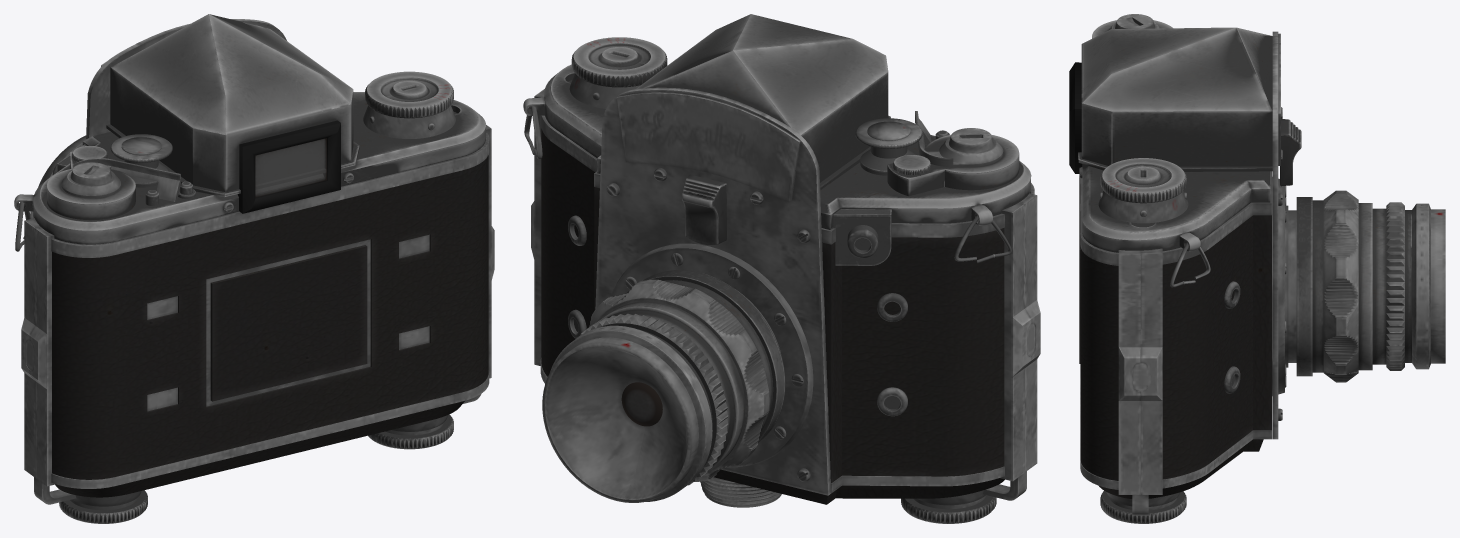
Rendered from tank.glb.
3 renders of one model, left to right at view 1: azimuth 30°, elevation 25°; view 2: azimuth 150°, elevation 25°; view 3: azimuth 270°, elevation 25°, orthographic. The views are drawn at different scales.
Visible parts, largest first — view 1: Cube.005_31, Cube.002_0, Cube.007_1, Cube.003_12, Cube_11, Cube.009_15, Box.002_32, Cube.004_13, Circle.005_3, Circle.022_21, Box.001_33, Cube.006_14 (+7 smaller); view 2: Cube.005_31, Cube.001_20, Circle.010_17, Cube.002_0, Cube.008_30, Cube.007_1, Circle.006_16, Cube.006_14, Circle.016_19, Circle.008_5, Circle.007_4, Circle.005_3 (+24 smaller); view 3: Cube.005_31, Cube.002_0, Cube.007_1, Circle.016_19, Circle.010_17, Cube_11, Cube.006_14, Circle.007_4, Circle.008_5, Circle.006_16, Circle.005_3, Circle.013_18 (+10 smaller).
Part boxes in pixels (x1=…): Cube.005_31: x1=52, y1=155, x2=488, y2=497; Cube.002_0: x1=106, y1=14, x2=359, y2=197; Cube.007_1: x1=33, y1=92, x2=485, y2=244; Cube.003_12: x1=30, y1=133, x2=489, y2=257; Cube_11: x1=29, y1=125, x2=494, y2=486; Cube.009_15: x1=147, y1=234, x2=429, y2=411; Box.002_32: x1=237, y1=120, x2=340, y2=213; Cube.004_13: x1=51, y1=371, x2=489, y2=488; Circle.005_3: x1=365, y1=71, x2=453, y2=118; Circle.022_21: x1=61, y1=158, x2=180, y2=201; Box.001_33: x1=255, y1=138, x2=326, y2=197; Cube.006_14: x1=21, y1=218, x2=40, y2=477; Cube.005_31: x1=541, y1=128, x2=1004, y2=504; Cube.001_20: x1=595, y1=87, x2=831, y2=495; Circle.010_17: x1=542, y1=325, x2=712, y2=502; Cube.002_0: x1=636, y1=14, x2=890, y2=189; Cube.008_30: x1=616, y1=92, x2=800, y2=201; Cube.007_1: x1=544, y1=64, x2=1031, y2=229; Circle.006_16: x1=610, y1=243, x2=813, y2=467; Cube.006_14: x1=531, y1=89, x2=1031, y2=481; Circle.016_19: x1=589, y1=279, x2=769, y2=481; Circle.008_5: x1=600, y1=301, x2=745, y2=470; Circle.007_4: x1=626, y1=270, x2=785, y2=442; Circle.005_3: x1=571, y1=37, x2=667, y2=87; Cube.005_31: x1=1079, y1=177, x2=1271, y2=498; Cube.002_0: x1=1078, y1=27, x2=1272, y2=171; Cube.007_1: x1=1082, y1=164, x2=1270, y2=252; Circle.016_19: x1=1323, y1=190, x2=1358, y2=382; Circle.010_17: x1=1412, y1=203, x2=1445, y2=369; Cube_11: x1=1118, y1=250, x2=1140, y2=494; Cube.006_14: x1=1140, y1=248, x2=1162, y2=494; Circle.007_4: x1=1296, y1=197, x2=1323, y2=376; Circle.008_5: x1=1358, y1=203, x2=1386, y2=370; Circle.006_16: x1=1272, y1=177, x2=1296, y2=396; Circle.005_3: x1=1100, y1=158, x2=1186, y2=203; Circle.013_18: x1=1386, y1=202, x2=1404, y2=370.
Bounding box in the file's own units: 4.14 × 3.63 × 3.04.
6 materials, 6 textured.
